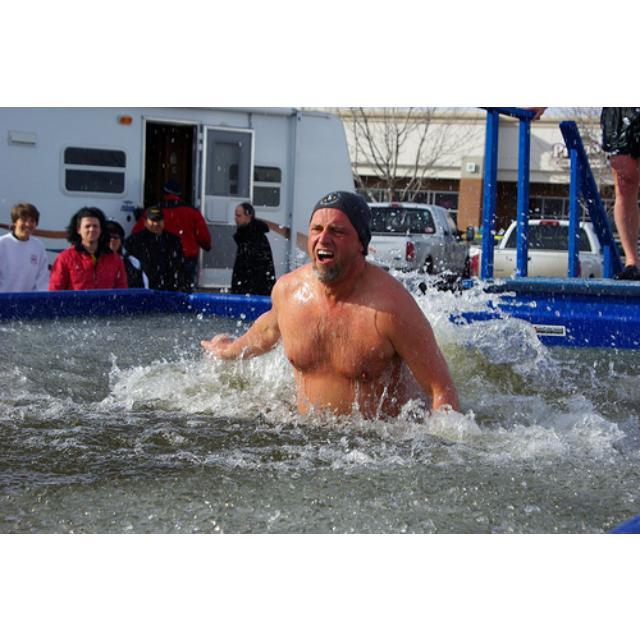human: (208, 190, 461, 429)
